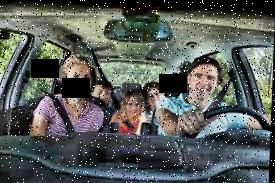seatbelt: (24, 74, 81, 132), (93, 54, 135, 127), (193, 66, 234, 137)
